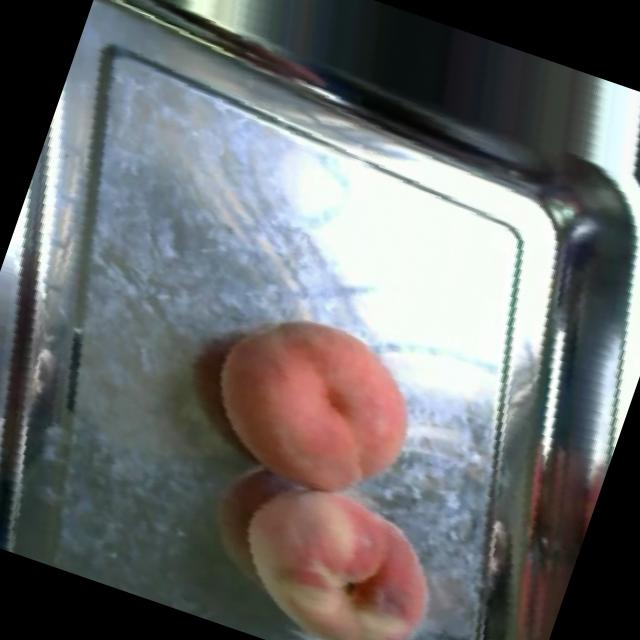Fruit: (169, 272, 459, 542), (195, 442, 480, 640)
